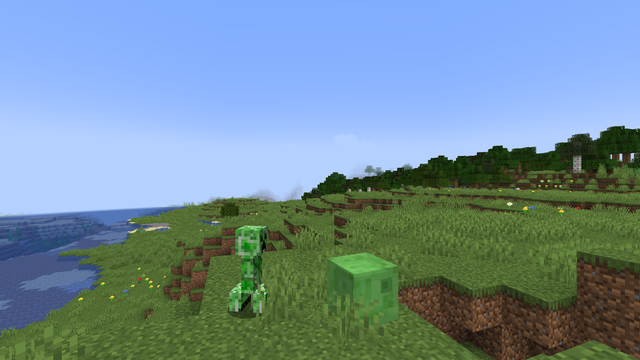creepers: (236, 221, 268, 315)
slimes: (326, 250, 398, 331)
